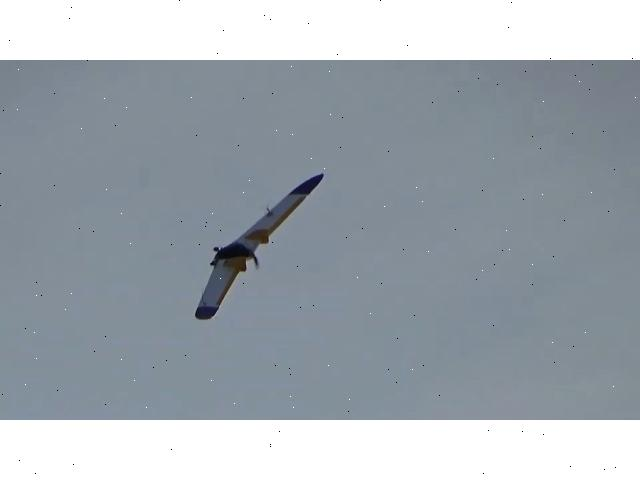Anti-Drone: (196, 173, 322, 320)
